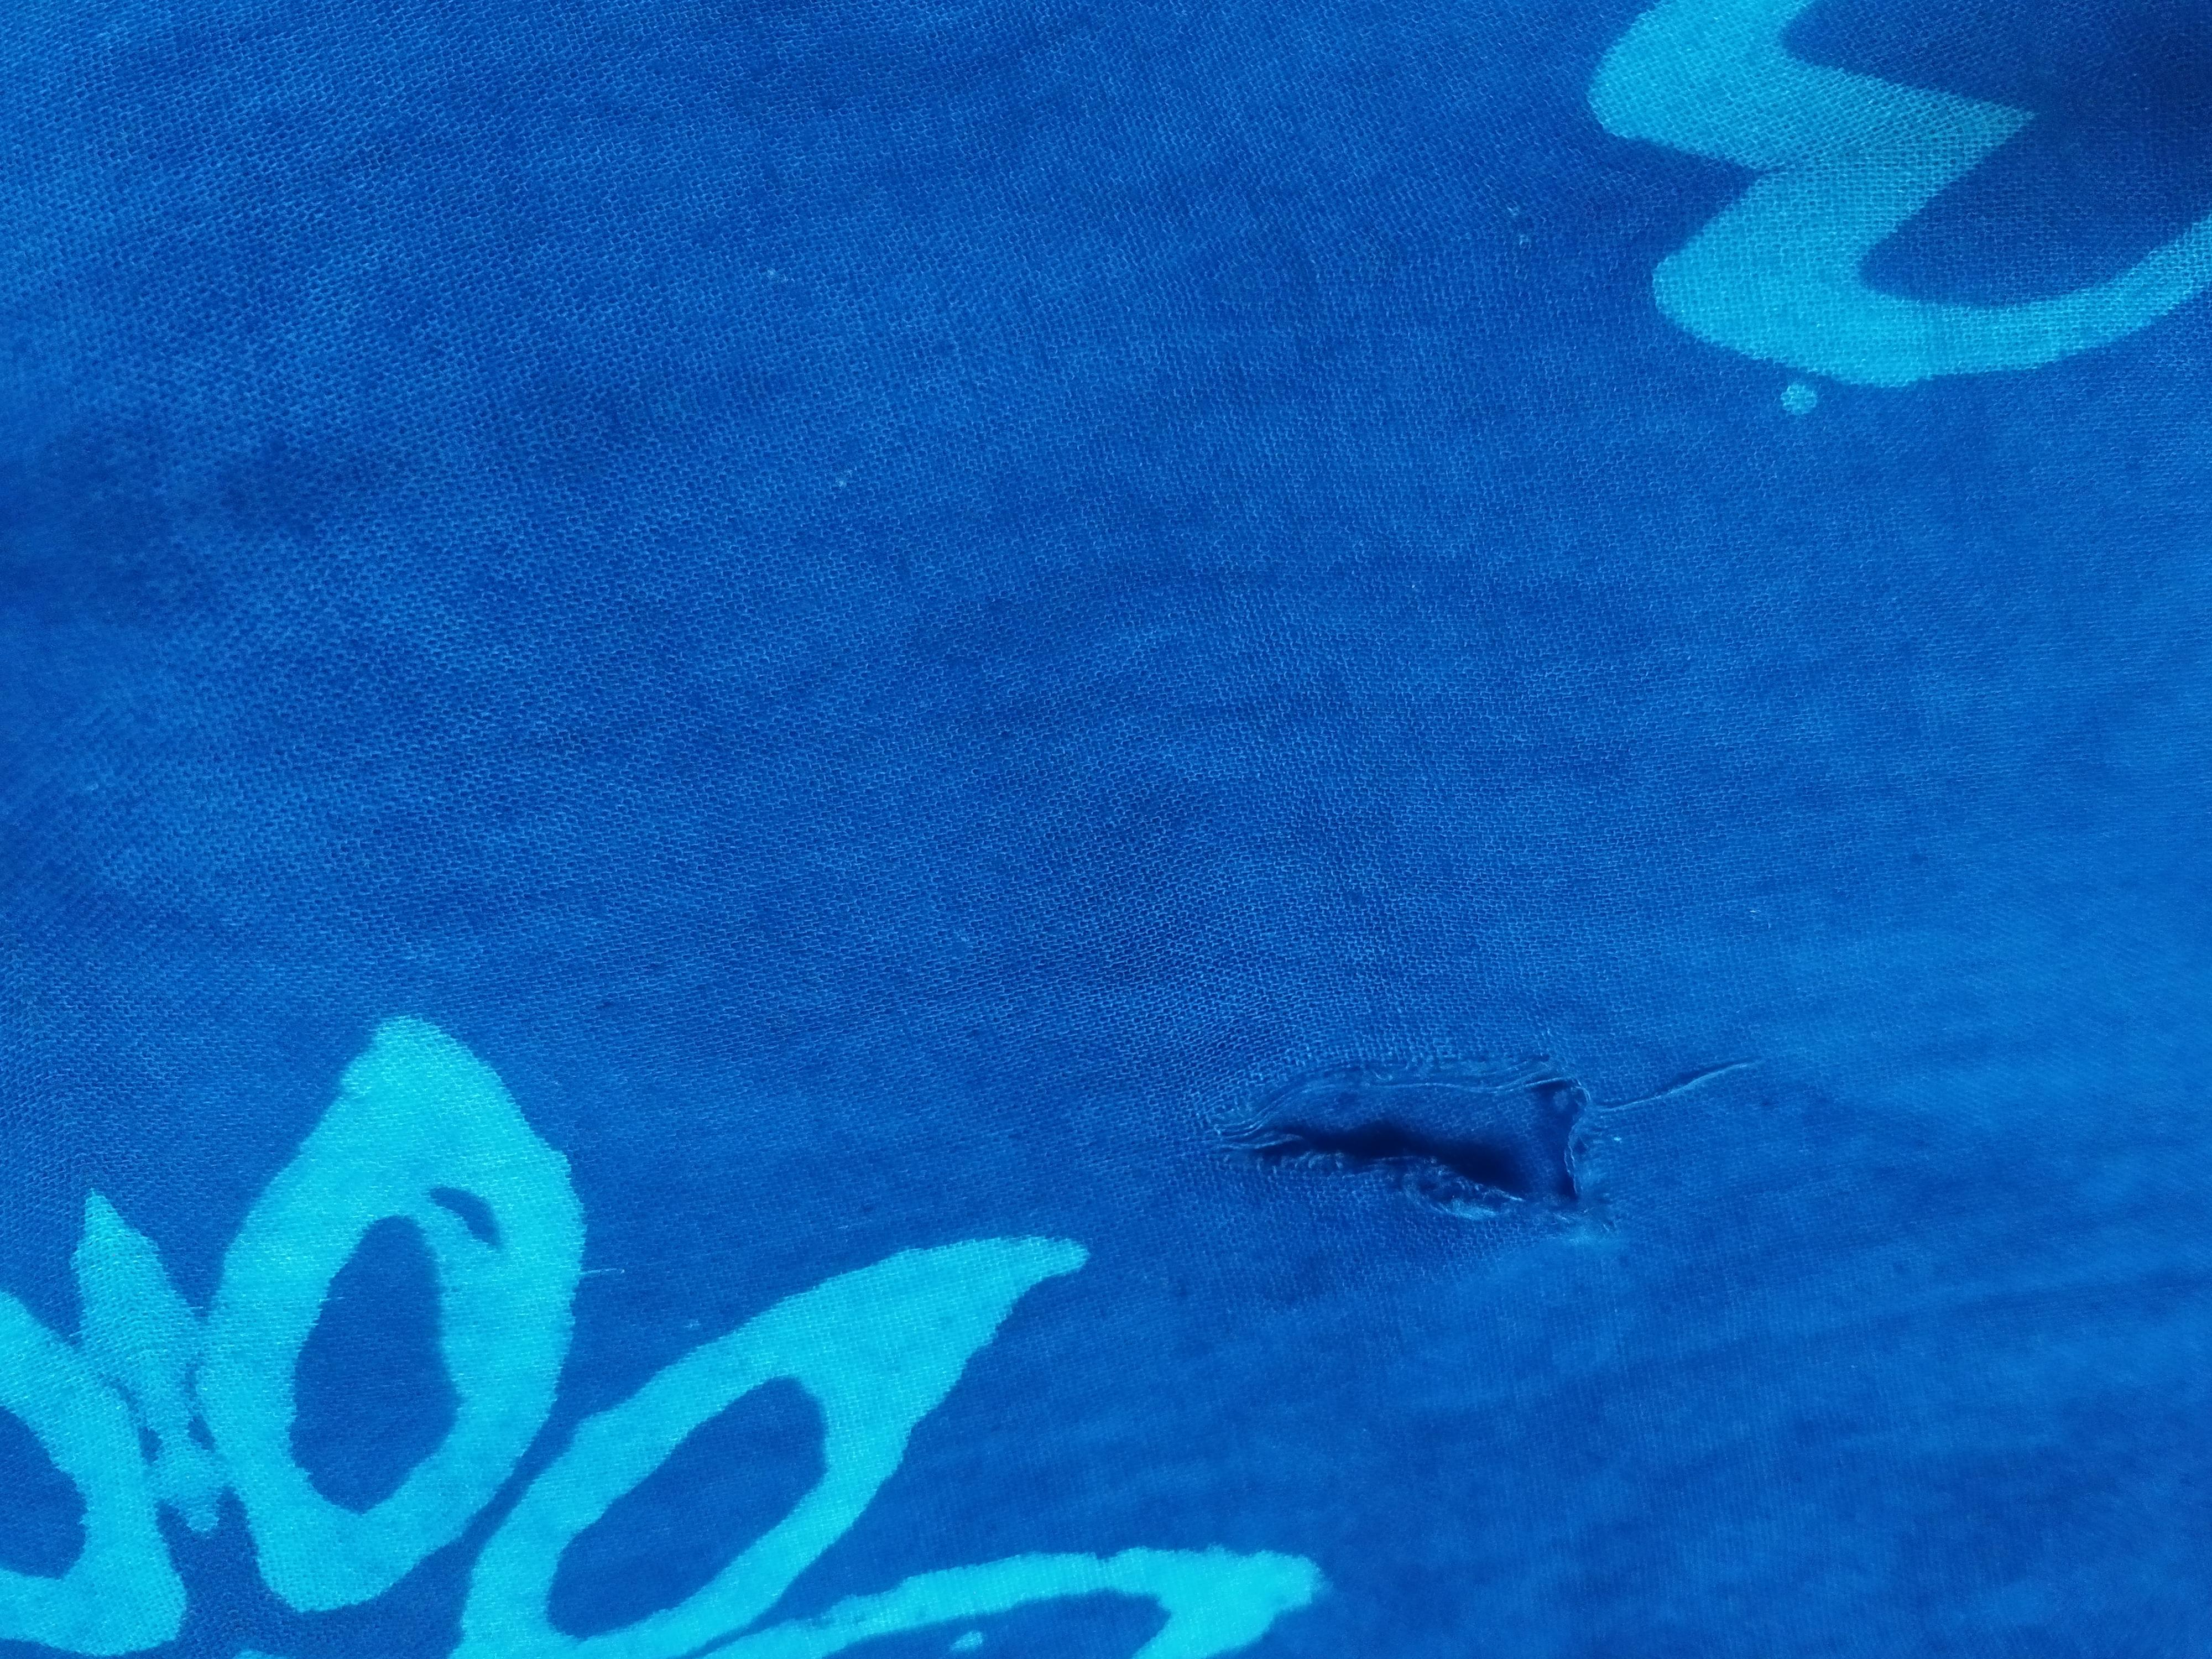hole: (1235, 1018, 1665, 1277)
